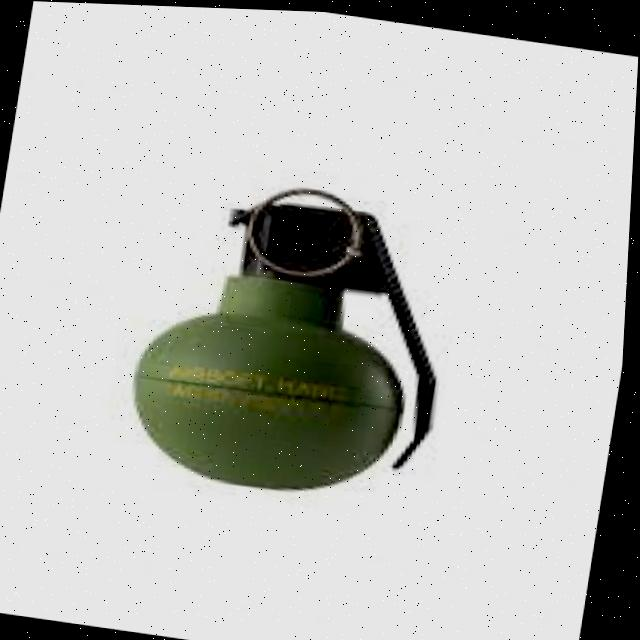grenade: (120, 172, 473, 527)
